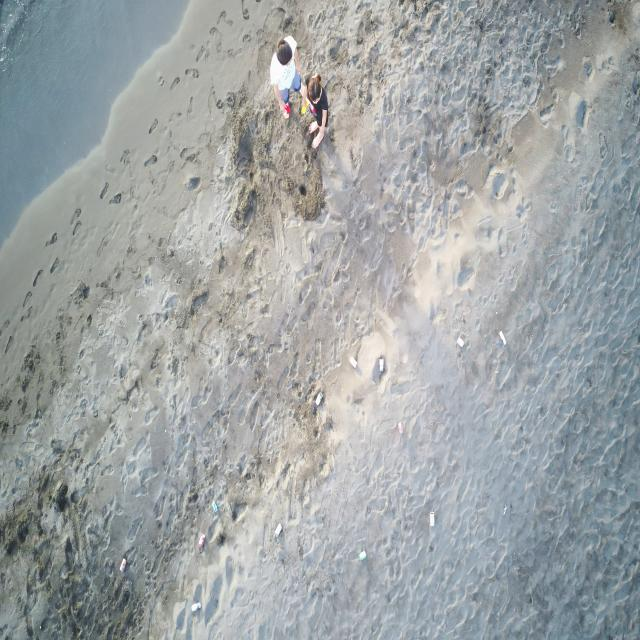Garbage: (196, 532, 204, 551), (315, 391, 323, 406), (377, 355, 384, 372), (273, 523, 281, 536), (500, 329, 506, 344), (348, 355, 355, 367), (456, 335, 463, 347), (192, 602, 200, 612), (428, 511, 433, 526), (119, 557, 124, 572), (212, 500, 218, 512), (359, 551, 366, 560), (397, 422, 403, 432), (503, 504, 507, 513)
